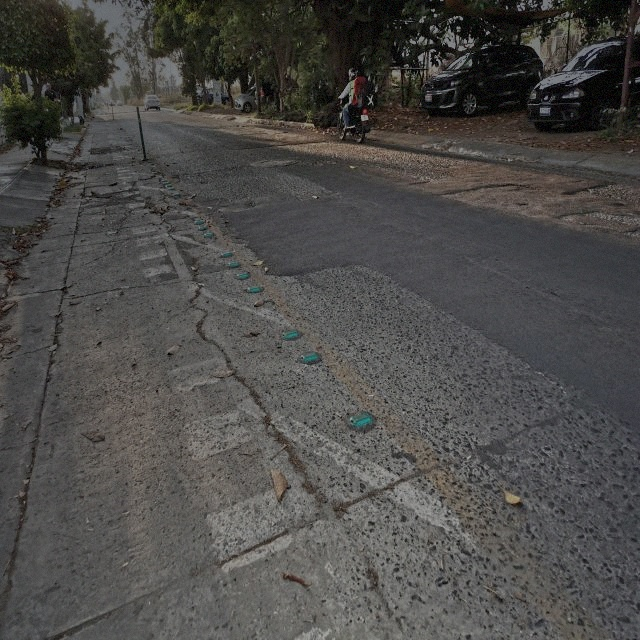pothole: (219, 203, 258, 213), (84, 161, 113, 169), (90, 191, 113, 201)
